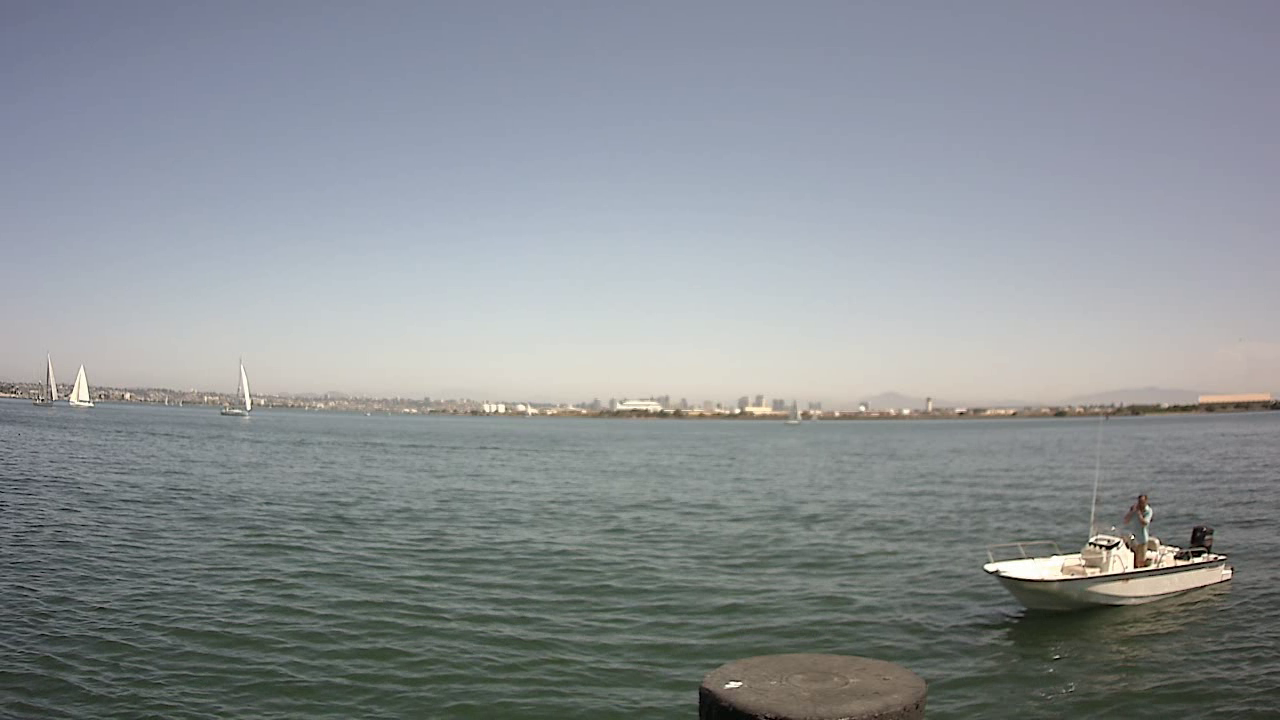target: (972, 484, 1239, 616)
